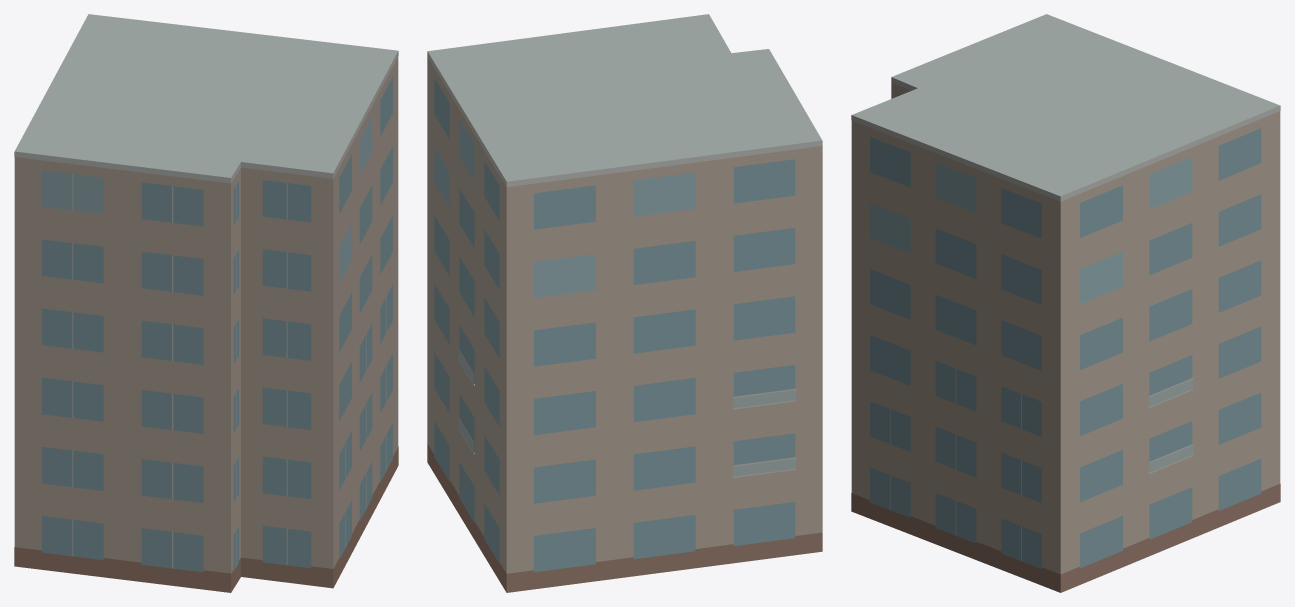
The model's file is survey-upis-32924413.glb.
3 views of the same model, side by side, from view 1: azimuth 30°, elevation 25°; view 2: azimuth 150°, elevation 25°; view 3: azimuth 270°, elevation 25° (orthographic). The views are drawn at different scales.
Parts seen in each view (by area): view 1: survey-upis-32924413.tmp; view 2: survey-upis-32924413.tmp; view 3: survey-upis-32924413.tmp.
Boxes of the visible parts, left/top/right/bottom form: survey-upis-32924413.tmp: left=14, top=14, right=398, bottom=592; survey-upis-32924413.tmp: left=427, top=14, right=822, bottom=592; survey-upis-32924413.tmp: left=851, top=14, right=1280, bottom=592.
Bounding box in the file's own units: 18.07 × 18.3 × 17.96.
